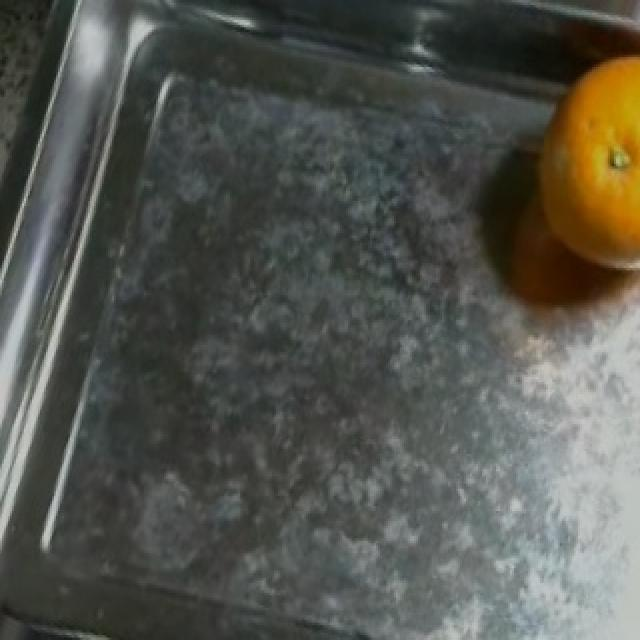Fruit: (522, 35, 640, 308)
